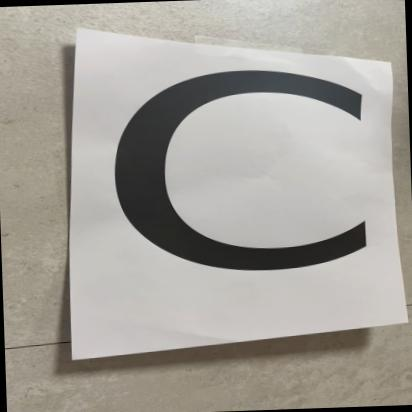seat: (55, 11, 412, 366)
